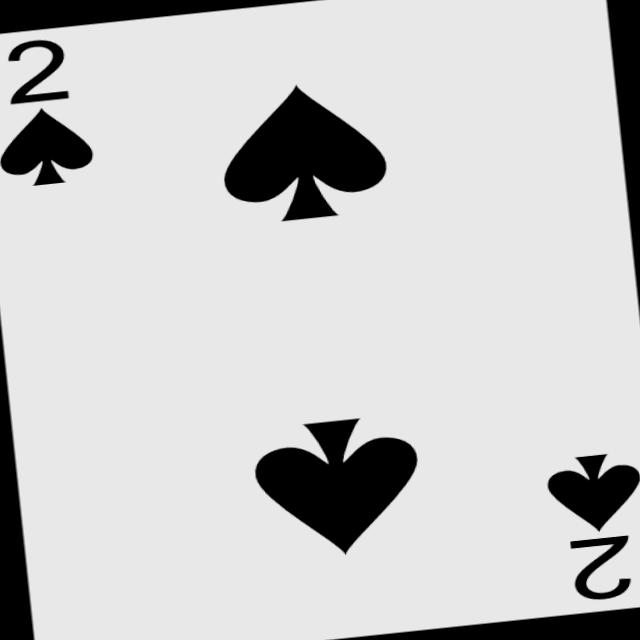Spade: (249, 412, 426, 563), (215, 76, 392, 227), (544, 450, 640, 536), (0, 103, 96, 189)
